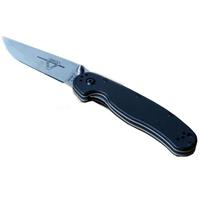knife: (1, 34, 195, 153)
